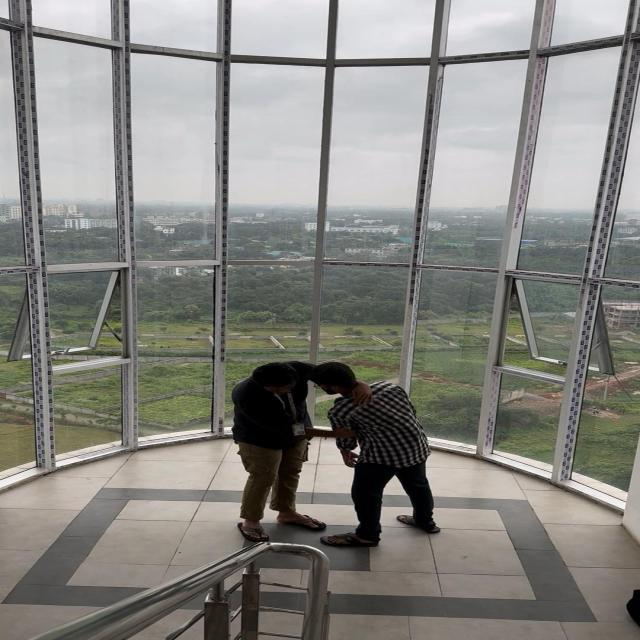fight: (178, 301, 511, 575)
